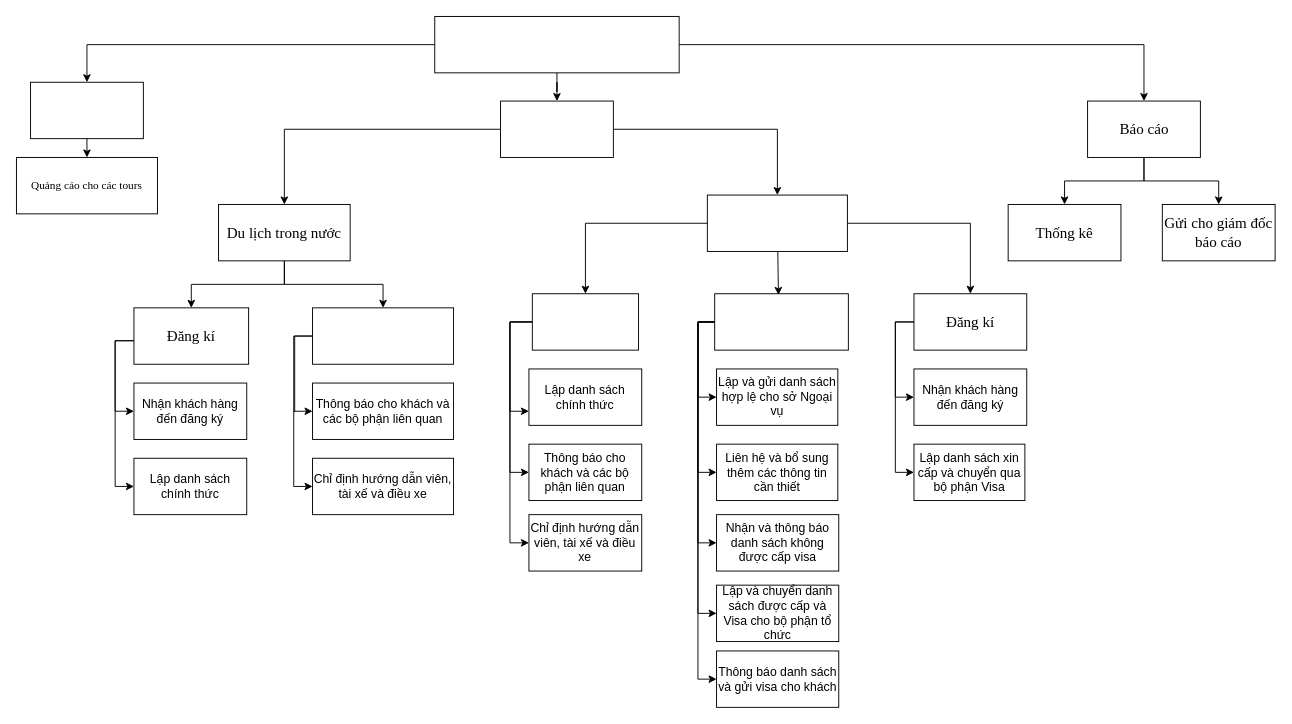
Image size: 1292x724. Some labels were removed from this diagram. The shapes that lost their labels are listed below. From the top down, each one's centre as x and y in pixels, then its label:
At point 556,44: "Hệ thống quản lý công ty du lịch".
At point 86,110: "Marketing".
At point 556,128: "Vận hành".
At point 776,222: "Du lịch nước ngoài".
At point 383,335: "Tổ chức tour".
At point 585,321: "Tổ chức Tours".
At point 781,321: "Thủ tục làm visa".
